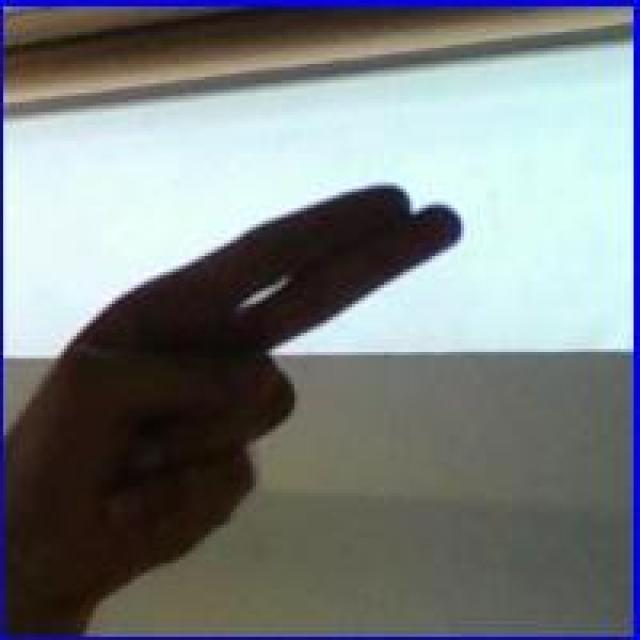H: (16, 179, 470, 605)
